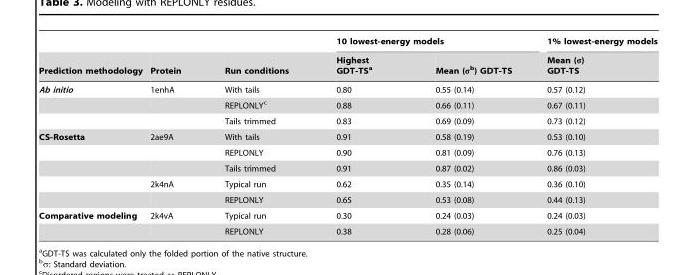table: (37, 36, 656, 235)
table column: (528, 36, 656, 235), (403, 36, 528, 235), (202, 36, 311, 235), (37, 36, 145, 235), (311, 36, 403, 235), (145, 36, 202, 235)
table column header: (37, 36, 656, 80)
table row: (37, 50, 656, 80), (37, 96, 656, 113), (37, 80, 656, 96), (37, 128, 656, 144), (37, 144, 656, 160), (37, 160, 656, 176), (37, 191, 656, 207), (37, 207, 656, 223), (37, 113, 656, 128), (37, 176, 656, 191), (37, 36, 656, 50), (37, 223, 656, 235)
table spanning cell: (37, 128, 145, 207), (528, 36, 656, 80), (37, 80, 145, 128), (202, 36, 311, 80), (37, 36, 145, 80), (311, 36, 528, 50), (37, 207, 145, 235), (145, 36, 202, 80)
